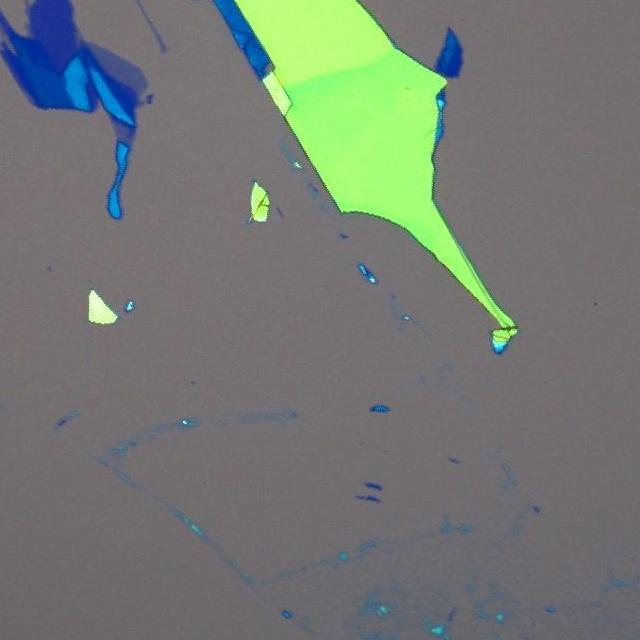monolayer-eWW4: (89, 38, 148, 96), (128, 0, 169, 54), (110, 116, 136, 142)
